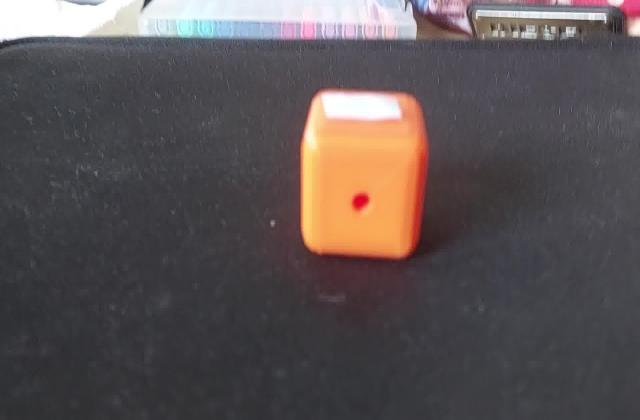cube: (296, 82, 432, 262)
white: (316, 88, 407, 128)
